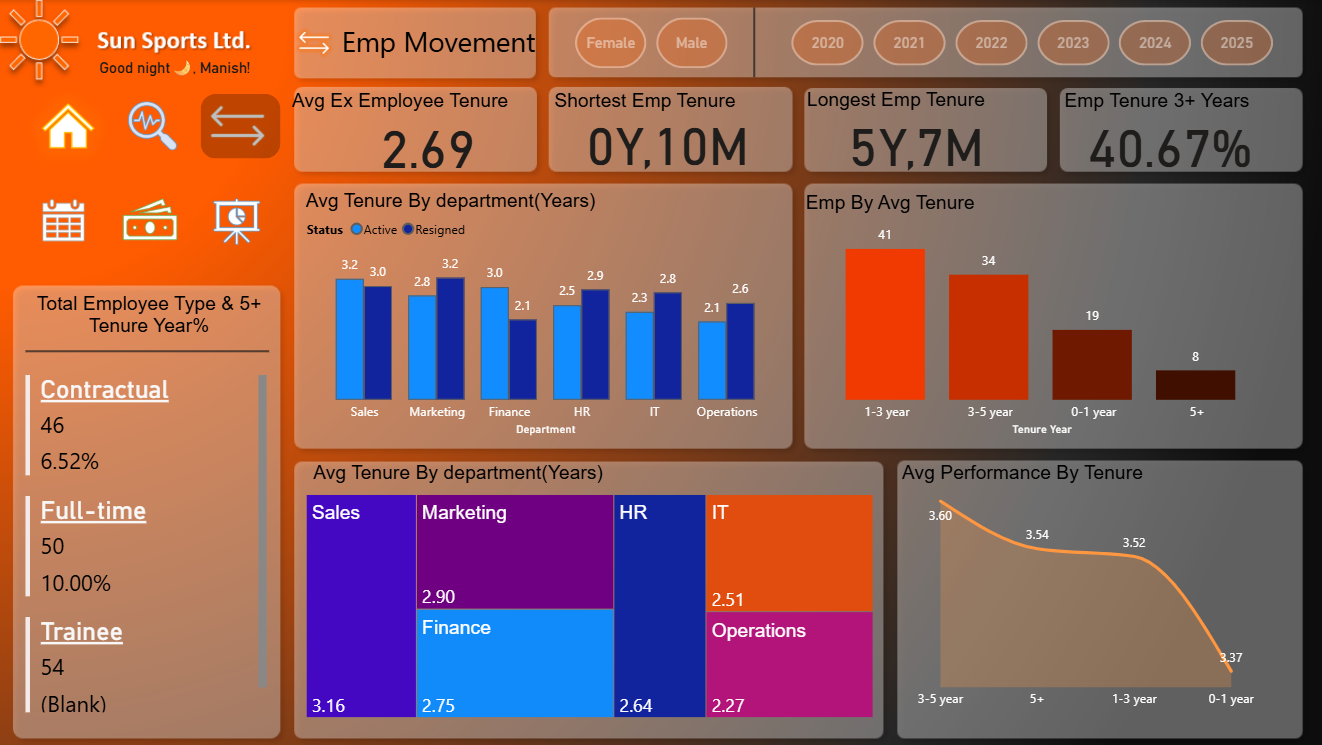

What the dashboard file says about the page in this screenshot:
{"tool":"powerbi","page":{"name":"Emp Movement","canvas":[1280,720],"ordinal":1},"visuals":[{"type":"advancedSlicerVisual","fields":{"Values":["Table1.Join Date.Variation.Date Hierarchy.Year"]},"box":[740.8,14.5,517.6,54.3],"z":0},{"type":"card","fields":{"Values":["Retention rate.WelcomeMessage"]},"box":[74.8,47.1,191.8,39.8],"z":1000},{"type":"textbox","box":[290.8,16.9,232.8,45.8],"z":2000},{"type":"textbox","box":[278.7,82,246.1,38.6],"z":3000},{"type":"card","fields":{"Values":["Table1.Exite Tenure"]},"box":[330.6,107.4,168.9,61.5],"z":4000},{"type":"card","fields":{"Values":["Table1.MAx Min Tenure"]},"box":[555,100.1,183.4,70],"z":5000},{"type":"textbox","box":[532,82,223.2,37.4],"z":6000},{"type":"textbox","box":[775.7,80.8,223.2,41],"z":7000},{"type":"card","fields":{"Values":["Table1.MAx Min Tenure"]},"box":[793.8,102.5,183.4,67.6],"z":8000},{"type":"card","fields":{"Values":["Performance Rating.% 3+ Tenure"]},"box":[1032.7,89.3,197.9,96.5],"z":9000},{"type":"textbox","box":[1024.3,82,213.5,37.4],"z":10000},{"type":"clusteredColumnChart","fields":{"Y":["Table1.Tenure Emp"],"Category":["Table1.Department"],"Series":["Table1.Status"]},"box":[293.2,201.5,471.7,224.4],"z":11000},{"type":"textbox","box":[292,178.6,295.6,45.8],"z":12000},{"type":"clusteredColumnChart","fields":{"Category":["Table1.Tenure Year"],"Y":["Performance Rating.Active emp"]},"box":[773.3,201.5,469.3,224.4],"z":13000},{"type":"advancedSlicerVisual","fields":{"Values":["Table1.Gender"]},"box":[532,12.1,197.9,59.1],"z":14000},{"type":"shape","box":[719,7.2,21.7,67.6],"z":15000},{"type":"treemap","fields":{"Values":["Table1.Tenure Emp"],"Group":["Table1.Department","Table1.Job Role"]},"box":[293.2,472.9,556.2,224.4],"z":16000},{"type":"textbox","box":[774.5,179.8,295.6,35],"z":17000},{"type":"textbox","box":[299.2,440.4,295.6,45.8],"z":18000},{"type":"lineChart","fields":{"Category":["Table1.Tenure Year"],"Y":["Table1.Performance Score"]},"box":[867.4,469.3,365.6,223.2],"z":19000},{"type":"textbox","box":[867.4,440.4,246.1,32.6],"z":20000},{"type":"multiRowCard","fields":{"Values":["Table1.Employment Type","Performance Rating.Total Employees","Performance Rating.% 5+Tenure"]},"box":[21.7,357.1,242.5,335.4],"z":21000},{"type":"textbox","box":[25.3,277.5,241.3,82],"z":22000},{"type":"shape","box":[26.5,324.5,235.3,29],"z":23000},{"type":"image","box":[12.1,43.4,252.1,225.6],"z":24000},{"type":"actionButton","box":[27.7,181,77.2,62.7],"z":26000},{"type":"actionButton","box":[112.2,90.5,77.2,62.7],"z":27000},{"type":"actionButton","box":[111,181,77.2,62.7],"z":28000},{"type":"actionButton","box":[195.7,90.2,77.2,62.7],"z":29000},{"type":"actionButton","box":[194.2,181,77.2,62.7],"z":30000},{"type":"image","box":[279.9,14.5,50.7,53.1],"z":31000}]}

Visuals, with their boxes in screenshot pixels (x1, y1, x2, y2), scaled from the page's 1280x720 canvas onto the 1322x745 screenshot:
advancedSlicerVisual - Table1.Join Date.Variation.Date Hierarchy.Year: x1=765 y1=15 x2=1300 y2=71
card - Retention rate.WelcomeMessage: x1=77 y1=49 x2=275 y2=90
textbox: x1=300 y1=17 x2=541 y2=65
textbox: x1=288 y1=85 x2=542 y2=125
card - Table1.Exite Tenure: x1=341 y1=111 x2=516 y2=175
card - Table1.MAx Min Tenure: x1=573 y1=104 x2=763 y2=176
textbox: x1=549 y1=85 x2=780 y2=124
textbox: x1=801 y1=84 x2=1032 y2=126
card - Table1.MAx Min Tenure: x1=820 y1=106 x2=1009 y2=176
card - Performance Rating.% 3+ Tenure: x1=1067 y1=92 x2=1271 y2=192
textbox: x1=1058 y1=85 x2=1278 y2=124
clusteredColumnChart - Table1.Tenure Emp x Table1.Department: x1=303 y1=208 x2=790 y2=441
textbox: x1=302 y1=185 x2=607 y2=232
clusteredColumnChart - Table1.Tenure Year x Performance Rating.Active emp: x1=799 y1=208 x2=1283 y2=441
advancedSlicerVisual - Table1.Gender: x1=549 y1=13 x2=754 y2=74
shape: x1=743 y1=7 x2=765 y2=77
treemap - Table1.Tenure Emp x Table1.Department: x1=303 y1=489 x2=877 y2=722
textbox: x1=800 y1=186 x2=1105 y2=222
textbox: x1=309 y1=456 x2=614 y2=503
lineChart - Table1.Tenure Year x Table1.Performance Score: x1=896 y1=486 x2=1273 y2=717
textbox: x1=896 y1=456 x2=1150 y2=489
multiRowCard - Table1.Employment Type x Performance Rating.Total Employees: x1=22 y1=369 x2=273 y2=717
textbox: x1=26 y1=287 x2=275 y2=372
shape: x1=27 y1=336 x2=270 y2=366
image: x1=12 y1=45 x2=273 y2=278
actionButton: x1=29 y1=187 x2=108 y2=252
actionButton: x1=116 y1=94 x2=196 y2=159
actionButton: x1=115 y1=187 x2=194 y2=252
actionButton: x1=202 y1=93 x2=282 y2=158
actionButton: x1=201 y1=187 x2=280 y2=252
image: x1=289 y1=15 x2=341 y2=70
